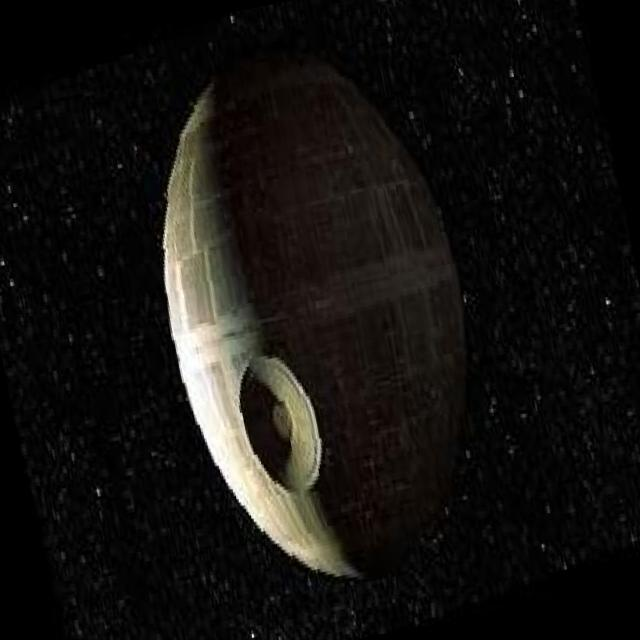Death Star: (116, 21, 518, 620)
